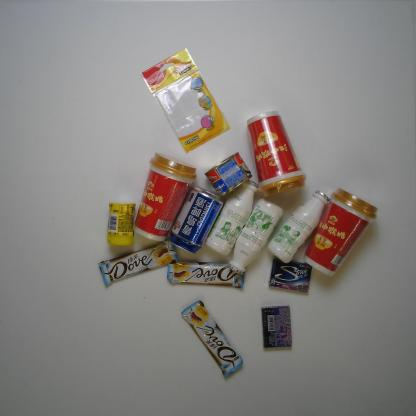Alcohol: (169, 185, 225, 254)
Canned Food: (204, 151, 253, 197)
Chocolate: (181, 299, 243, 378), (97, 240, 180, 286), (166, 260, 246, 288)
Gum: (268, 258, 312, 292), (106, 200, 136, 247), (261, 305, 292, 349)
Instant Drink: (302, 186, 379, 277), (132, 152, 197, 242), (246, 110, 307, 200)
Milk: (266, 190, 330, 264), (228, 198, 284, 276), (204, 179, 259, 256)
Stationery: (140, 48, 231, 154)
